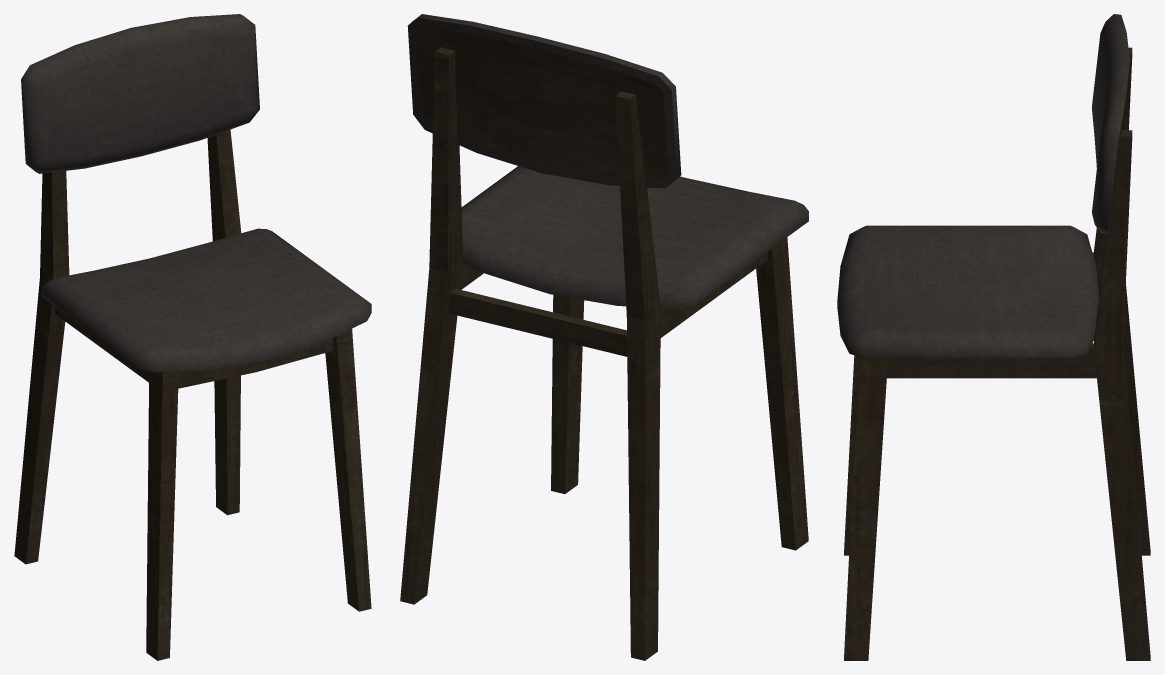
The model's file is chair_mp_4_3.obj.
3 views of the same model, side by side, from view 1: azimuth 30°, elevation 25°; view 2: azimuth 150°, elevation 25°; view 3: azimuth 270°, elevation 25° (orthographic). The views are drawn at different scales.
Parts seen in each view (by area): view 1: chair_mp_4_3; view 2: chair_mp_4_3; view 3: chair_mp_4_3.
Boxes of the visible parts, left/top/right/bottom form: chair_mp_4_3: left=14, top=14, right=371, bottom=660; chair_mp_4_3: left=400, top=14, right=808, bottom=660; chair_mp_4_3: left=837, top=14, right=1150, bottom=660.
Bounding box in the file's own units: 0.4763 × 1.01 × 0.5226.
